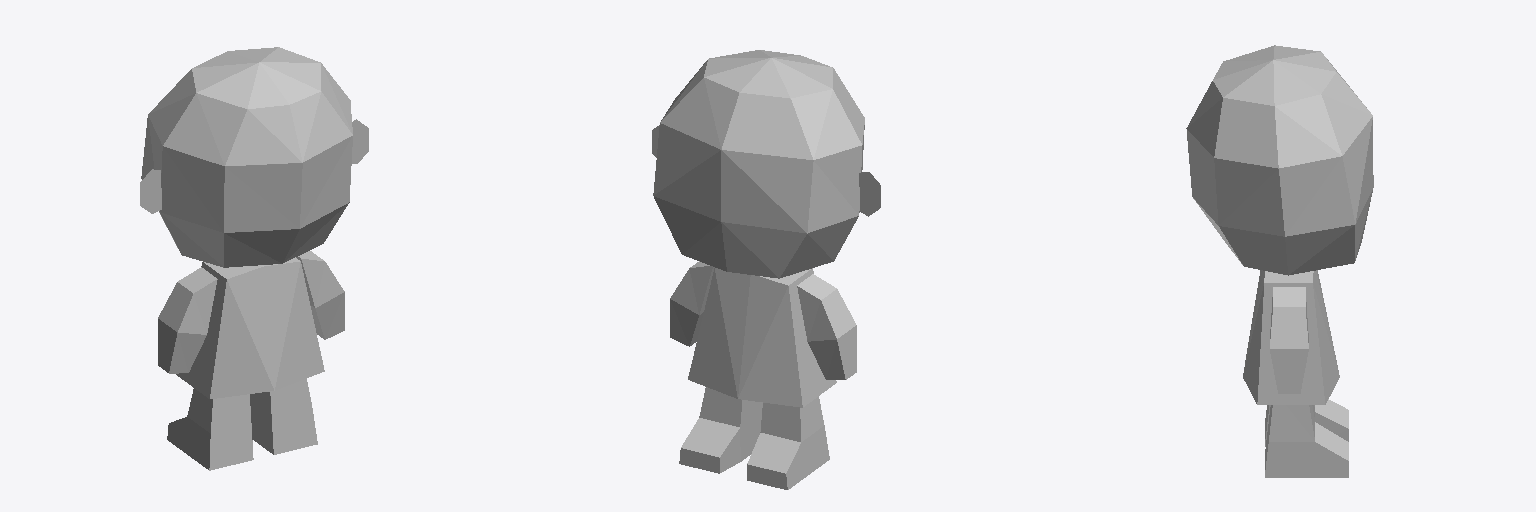
The model's file is guy.obj.
3 renders of one model, left to right at view 1: azimuth 30°, elevation 25°; view 2: azimuth 150°, elevation 25°; view 3: azimuth 270°, elevation 25°, orthographic.
Parts seen in each view (by area): view 1: md2_guy; view 2: md2_guy; view 3: md2_guy.
Boxes of the visible parts, x1=… form: md2_guy: x1=140, y1=47, x2=368, y2=470; md2_guy: x1=652, y1=50, x2=880, y2=489; md2_guy: x1=1186, y1=45, x2=1373, y2=477.
Bounding box in the file's own units: 1.54 × 2.54 × 1.1.